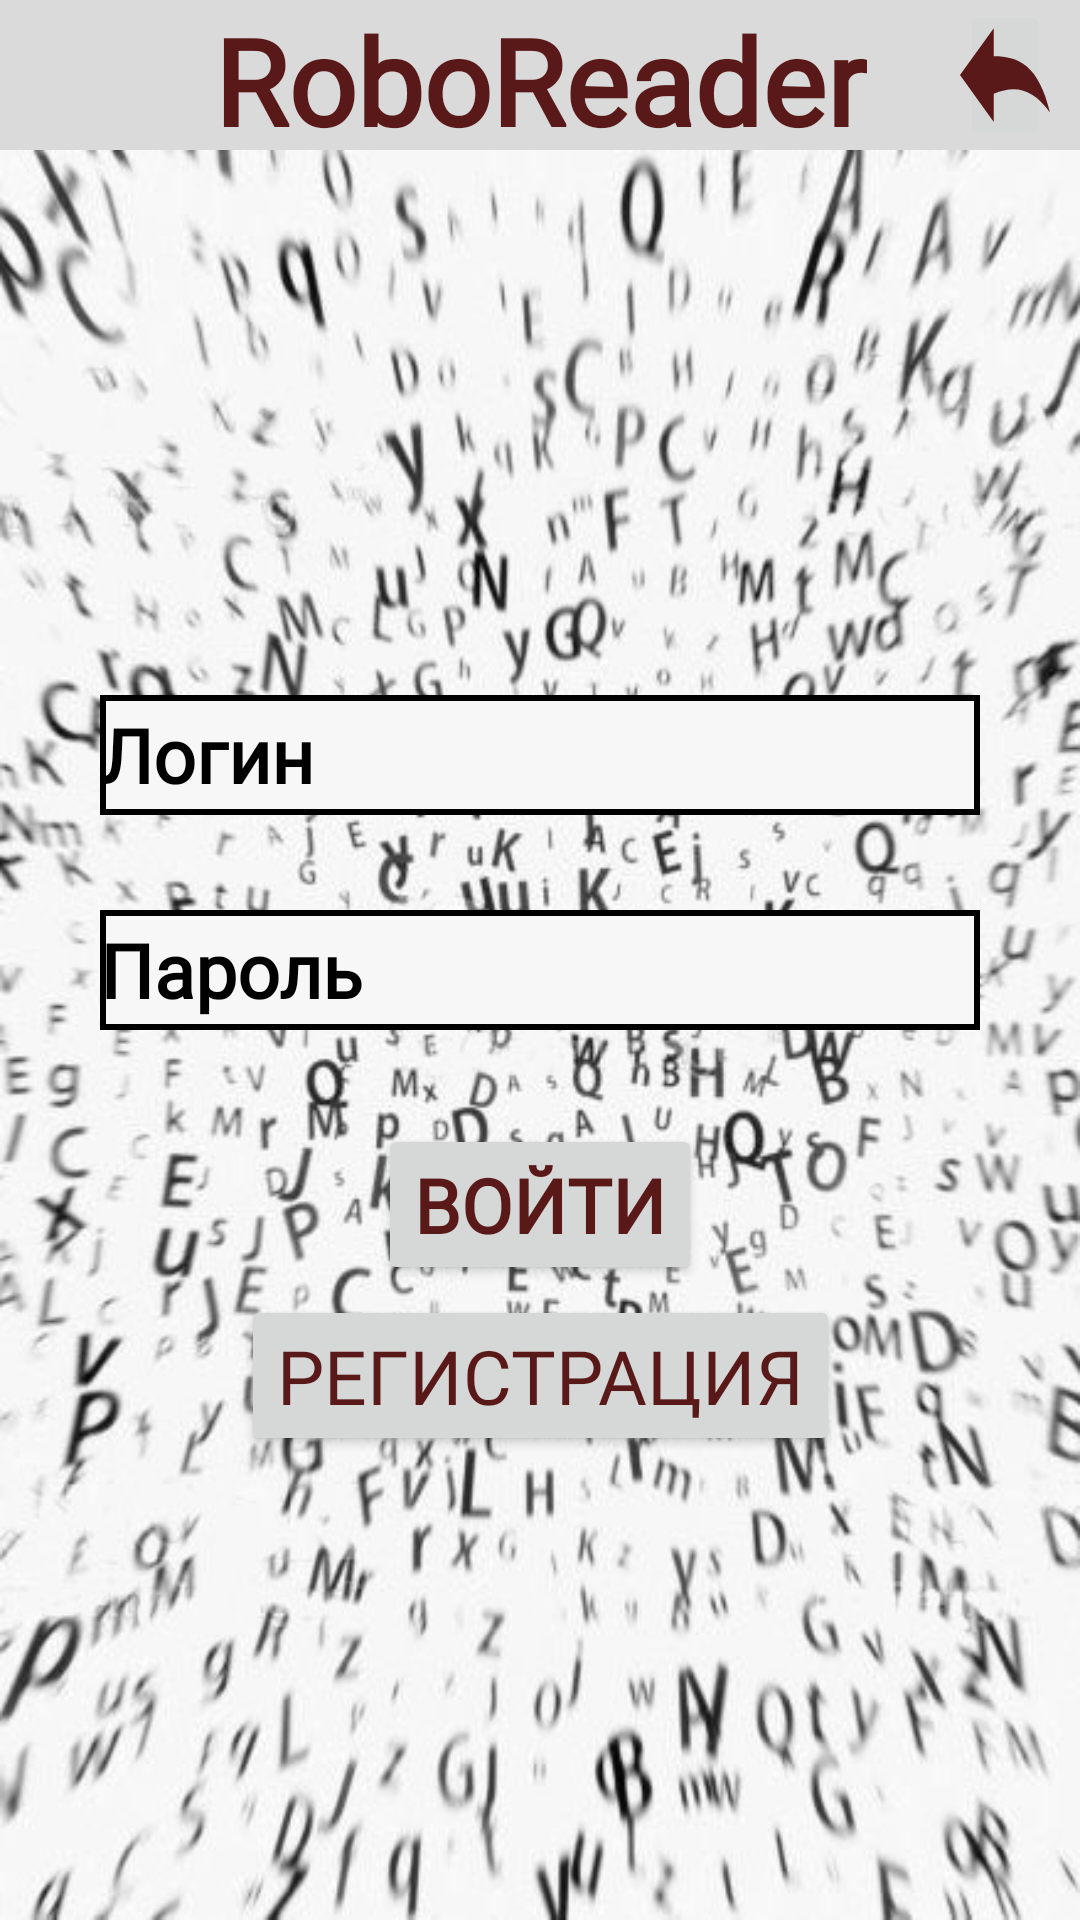

Icons on this 1080px x 1920px Android screen, each with its box as [x1=x1, y1=y1, x2=x2, y2=y2]:
arrow address back: [x1=960, y1=28, x2=1050, y2=122]
